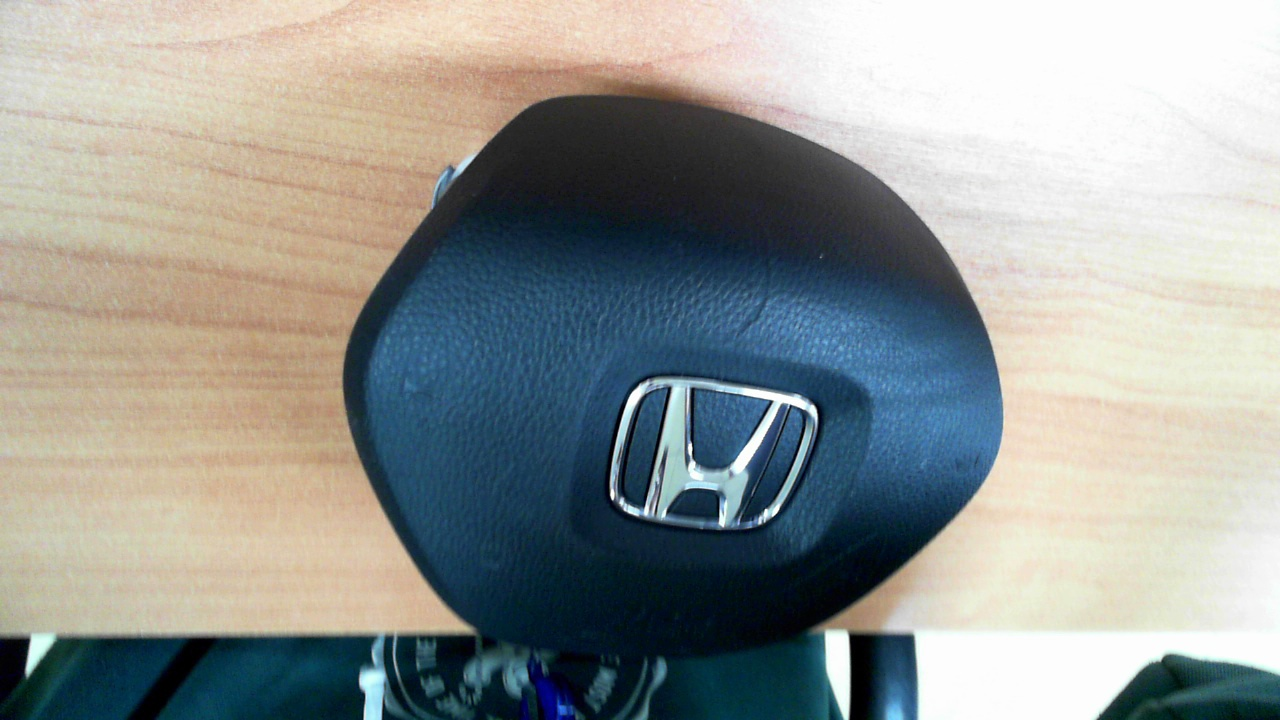Airbag: (342, 94, 1006, 657)
Honda: (608, 375, 819, 531)
